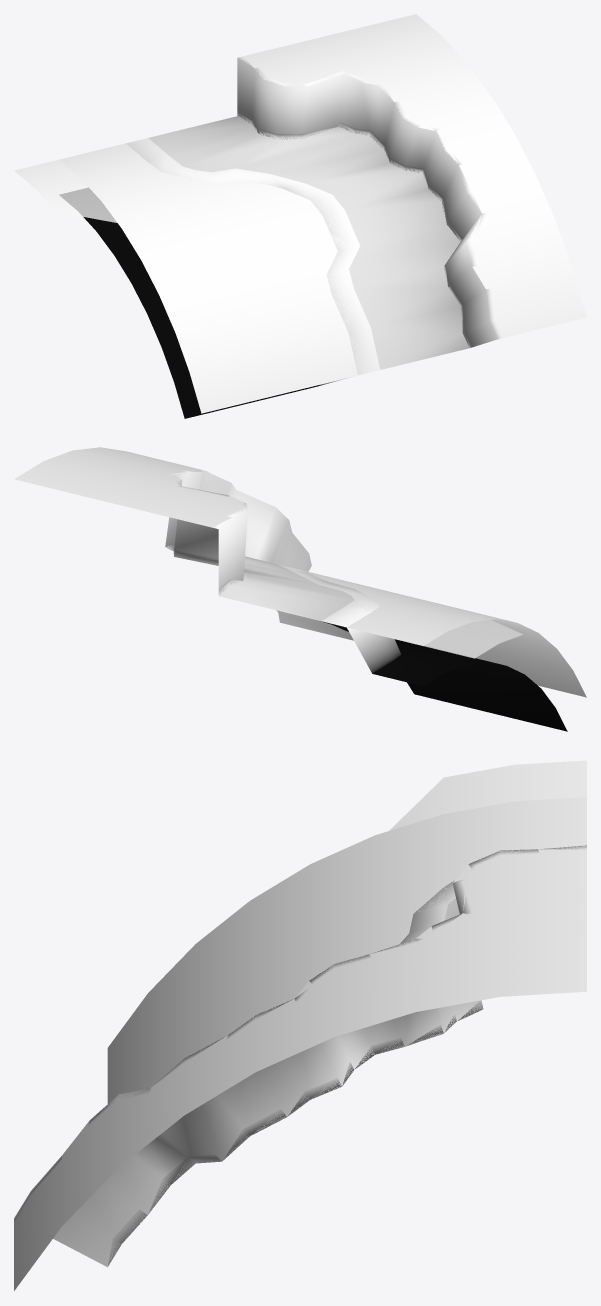
The model's file is grd_Msw_w_0.dae.
3 renders of one model, top to bottom at view 1: azimuth 30°, elevation 25°; view 2: azimuth 150°, elevation 25°; view 3: azimuth 270°, elevation 25°, orthographic. The views are drawn at different scales.
Parts seen in each view (by area): view 1: grd_Msw_w_0; view 2: grd_Msw_w_0; view 3: grd_Msw_w_0.
Part boxes in pixels (x1,y1,x2,y2): grd_Msw_w_0: (14, 14, 586, 418); grd_Msw_w_0: (14, 447, 586, 731); grd_Msw_w_0: (14, 760, 586, 1290).
Bounding box in the file's own units: 576 × 308 × 423.
6 materials, 1 textured.
